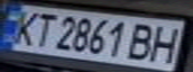1: (103, 19, 133, 58)
2: (48, 12, 78, 52)
6: (87, 17, 112, 56)
8: (69, 15, 93, 54)
B: (121, 20, 163, 62)
H: (142, 22, 190, 63)
K: (3, 8, 45, 47)
T: (24, 10, 60, 48)
